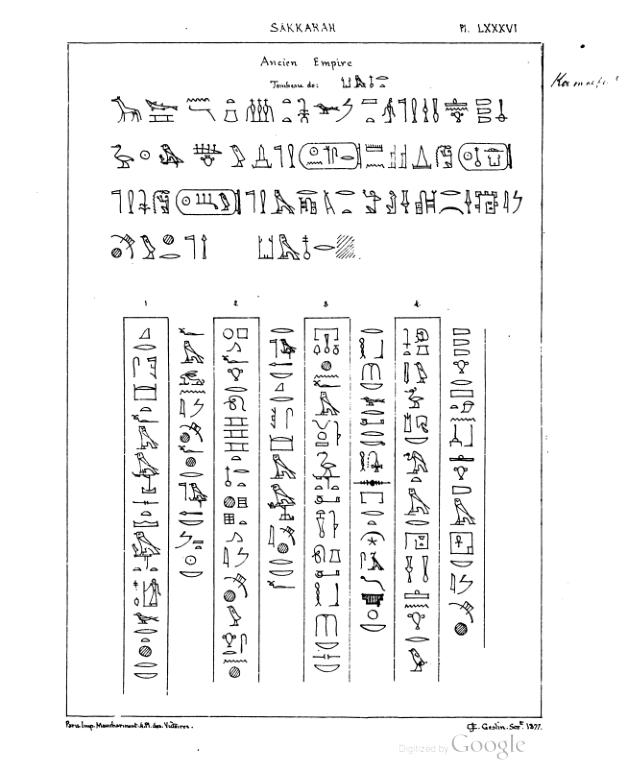circle: (172, 187, 244, 219), (296, 141, 363, 173), (455, 142, 520, 172)
